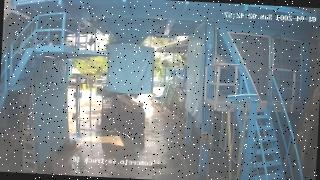cement_mixer_truck: (96, 72, 145, 133)
